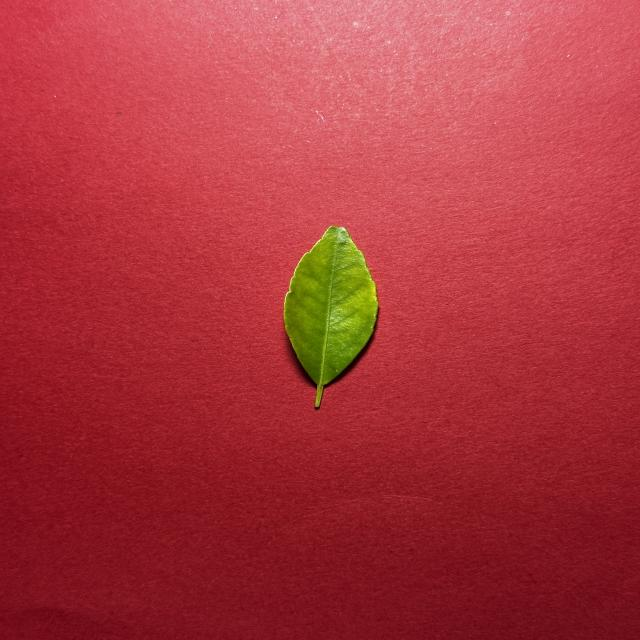greening: (284, 226, 378, 408)
